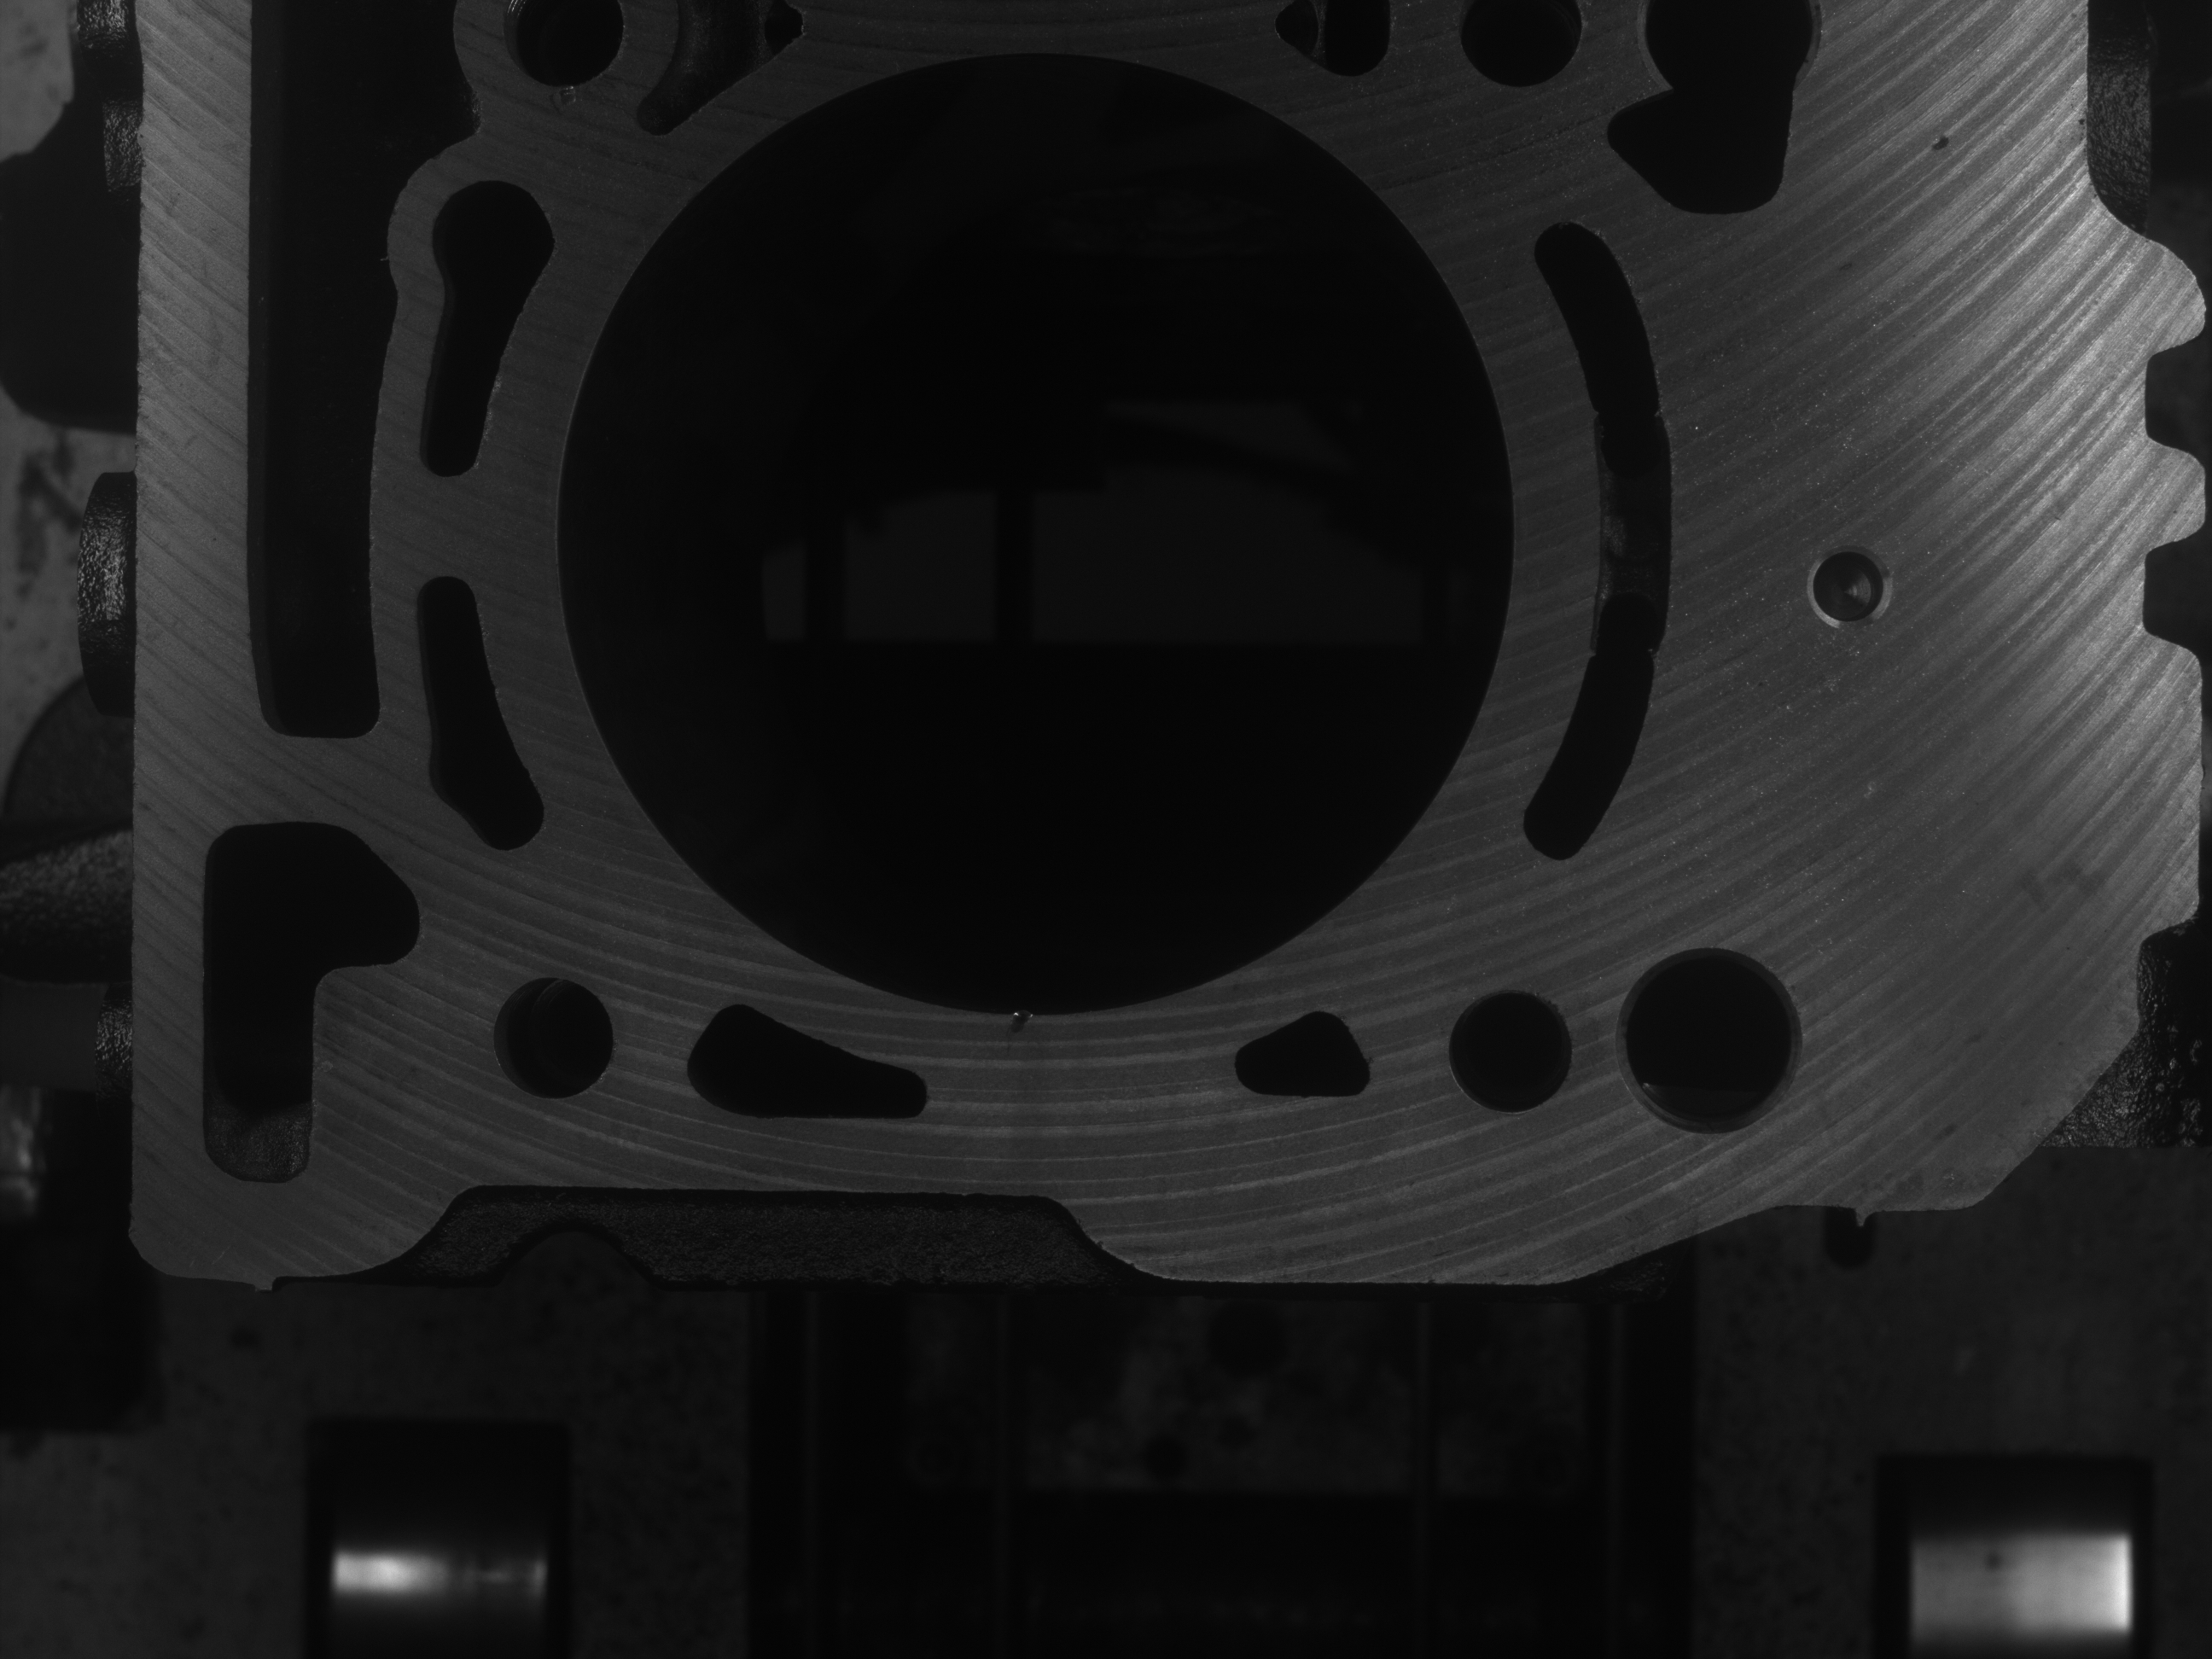sandhole: (995, 988, 1055, 1046)
